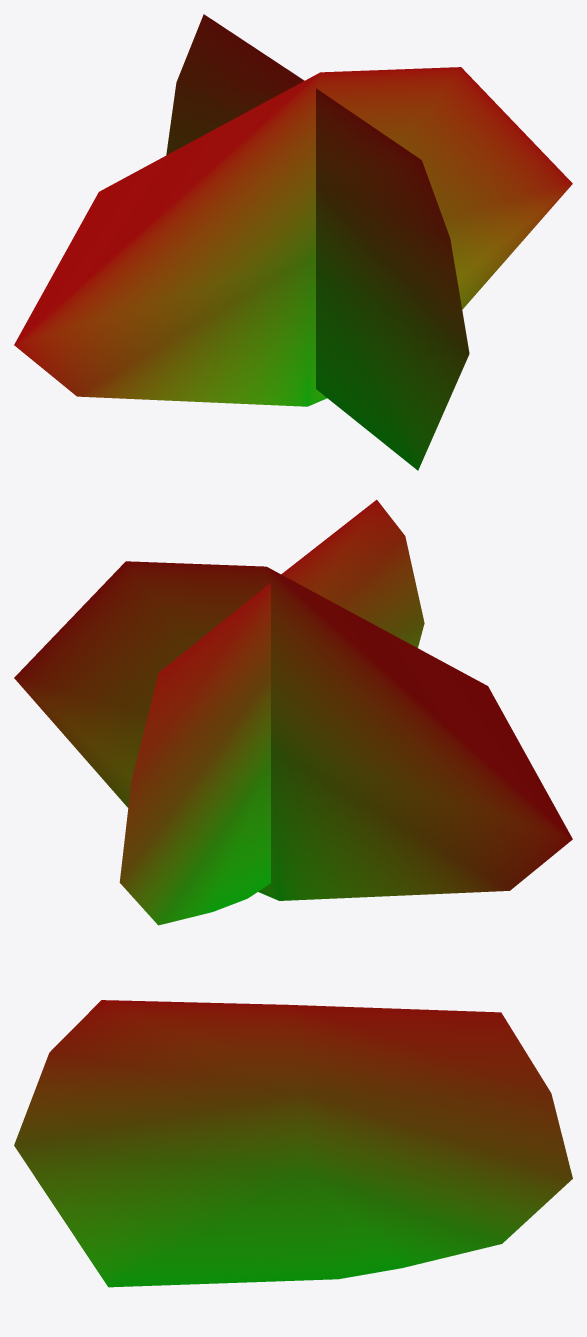
The model's file is Downy Willow_LOD6_Var2_wknlfiuqx.fbx.
The picture shows the model from 3 angles, top to bottom: view 1: azimuth 30°, elevation 25°; view 2: azimuth 150°, elevation 25°; view 3: azimuth 270°, elevation 25°; orthographic projection. The views are drawn at different scales.
Parts seen in each view (by area): view 1: _tird_Var2_LOD6; view 2: _tird_Var2_LOD6; view 3: _tird_Var2_LOD6.
Boxes of the visible parts, x1,y1,x2,y2 form: _tird_Var2_LOD6: (14, 14, 572, 470); _tird_Var2_LOD6: (14, 499, 572, 925); _tird_Var2_LOD6: (14, 1000, 572, 1287).
Size of the model in its own units: 223 by 126 by 210.
